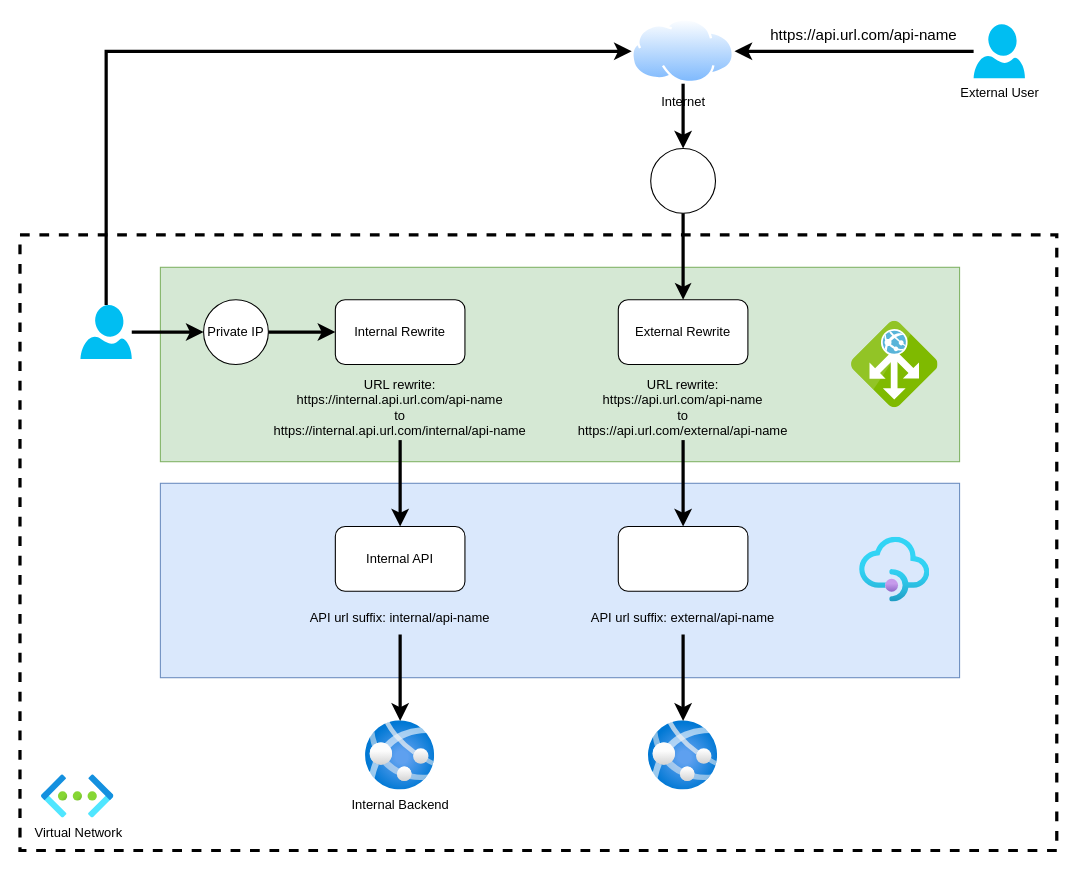
The diagram is 1077 pixels wide and 870 high, and some of its shapes have lost their labels. The shapes that lost their labels are listed below. From the top down, each one's centre as x and y in pixels, then its label:
At pixel 683 180: "Public IP".
At pixel 105 332: "Internal User".
At pixel 682 558: "External API".
At pixel 682 754: "External Backend".
